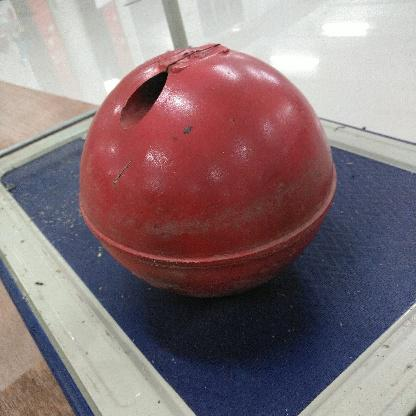red_buoy: (76, 44, 340, 306)
